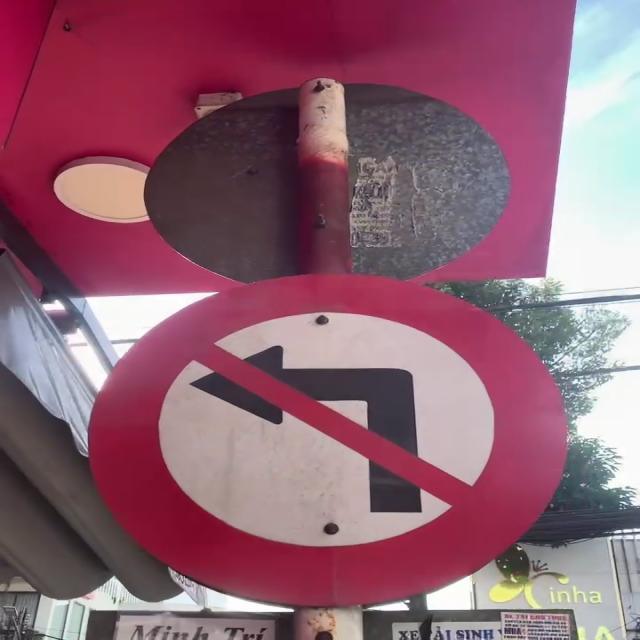Cam_Re_Trai: (84, 273, 568, 607)
